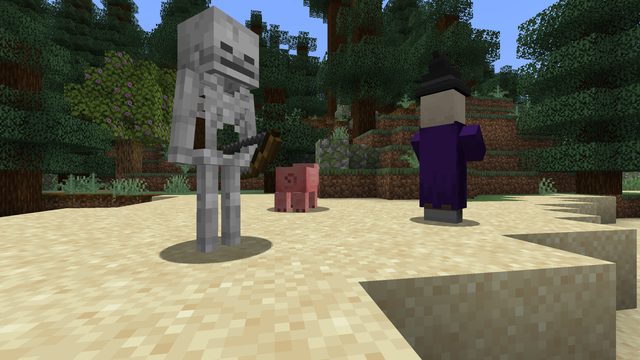cochons: (276, 165, 322, 211)
sorcieres: (413, 83, 474, 224)
squelettes: (171, 6, 254, 258)
